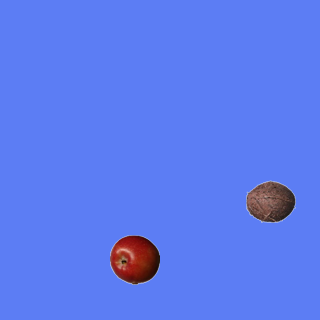Apple Braeburn: (109, 234, 159, 284)
Cocos: (245, 176, 295, 226)
